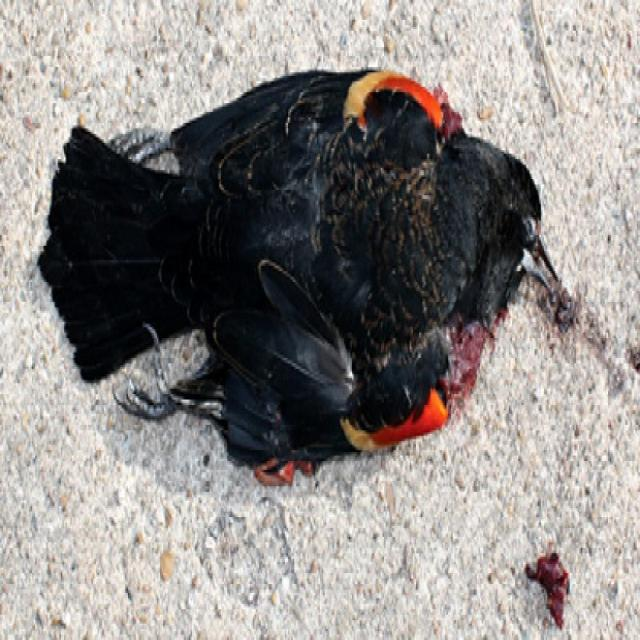Bangkai Burung: (26, 26, 596, 532)
